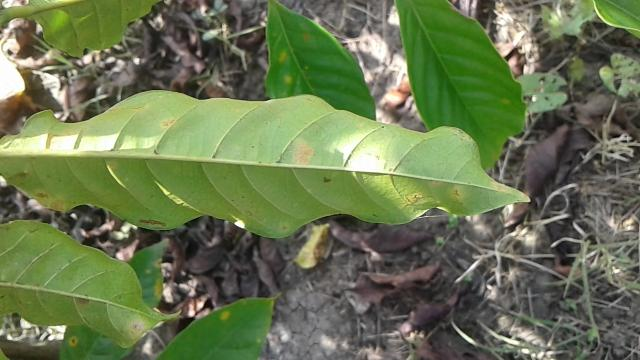rust_level_2: (0, 86, 538, 244)
